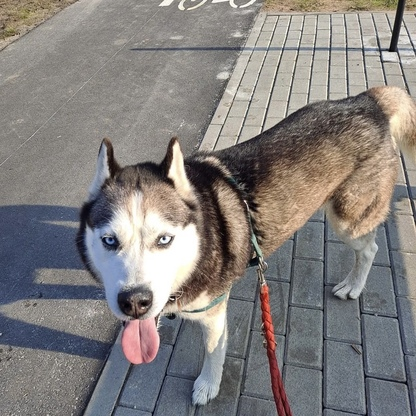husky: (72, 79, 416, 410)
